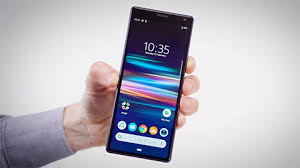sony: (104, 4, 198, 168)
